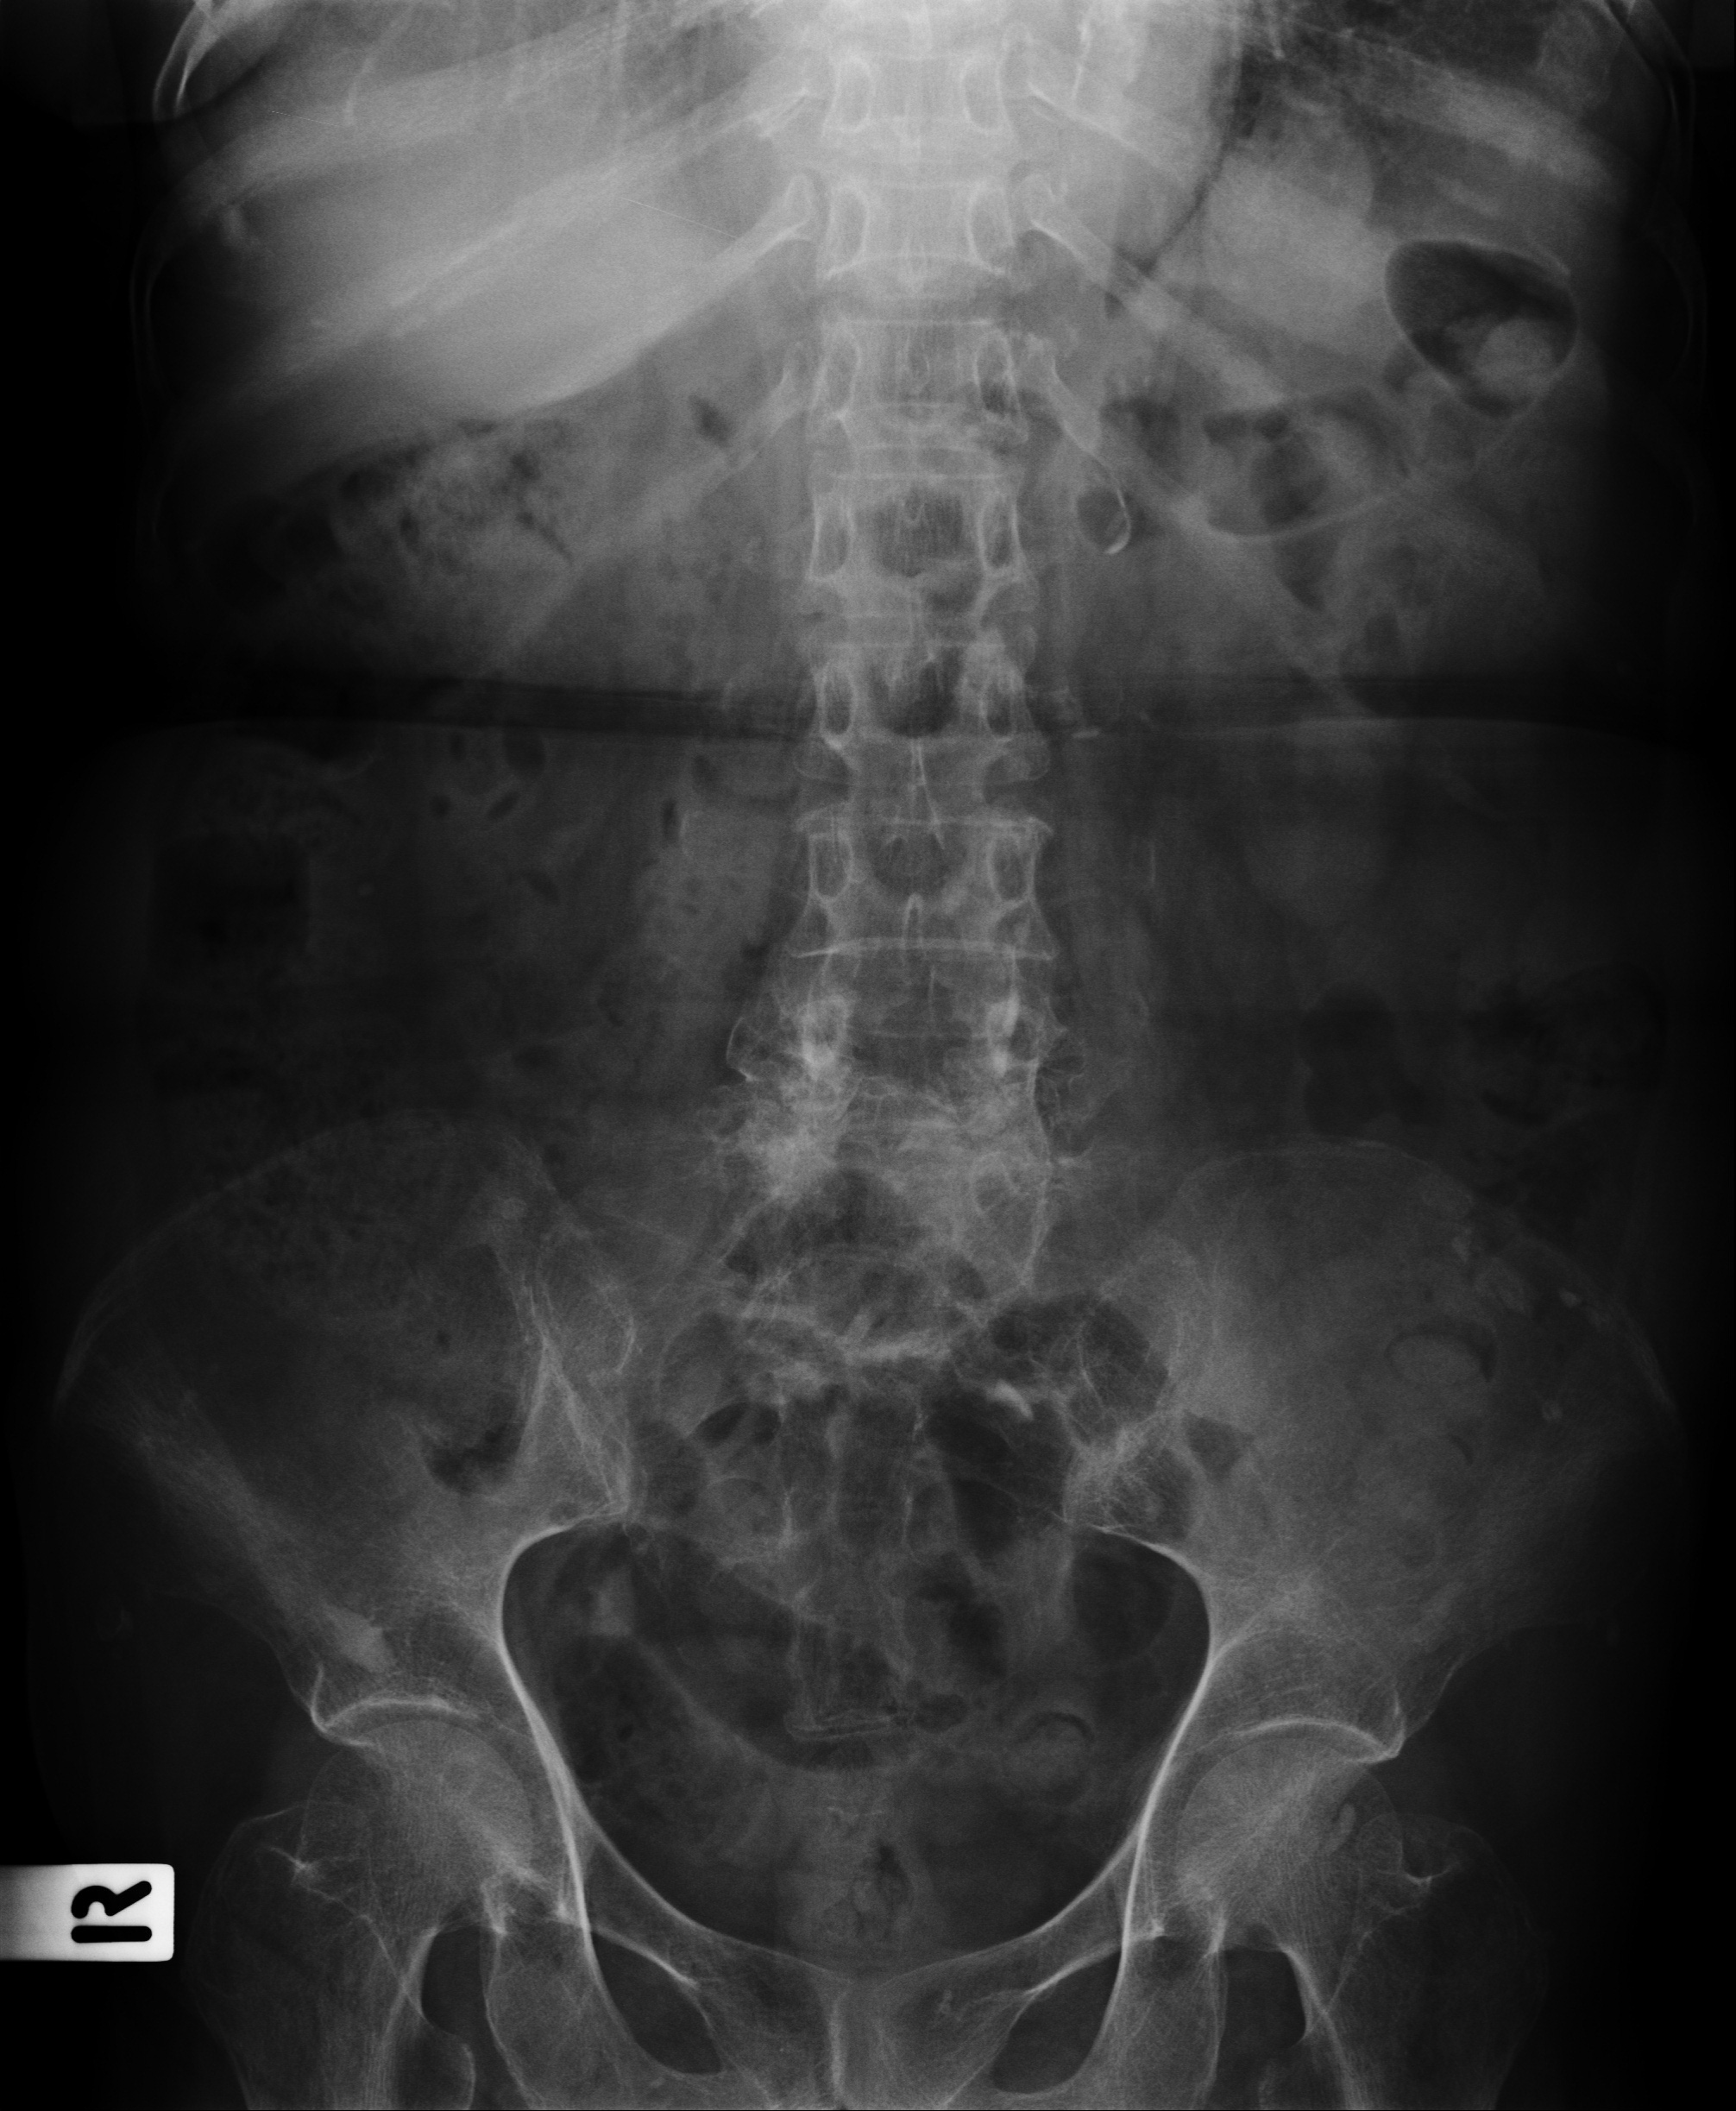lumbar scoliosis: (736, 25, 1066, 1234)
